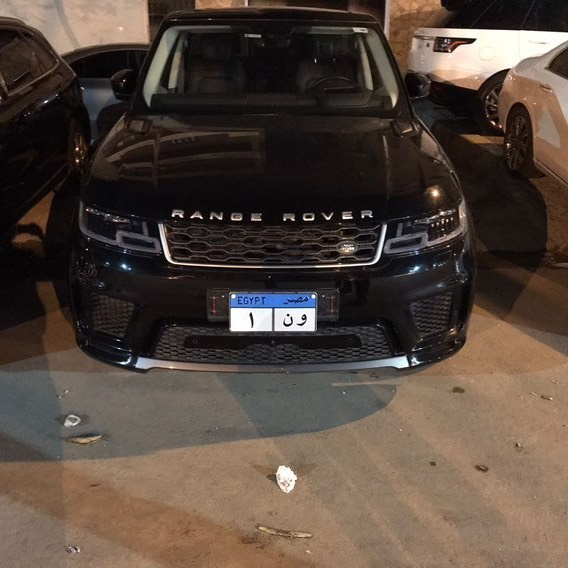carpl: (229, 295, 318, 335)
